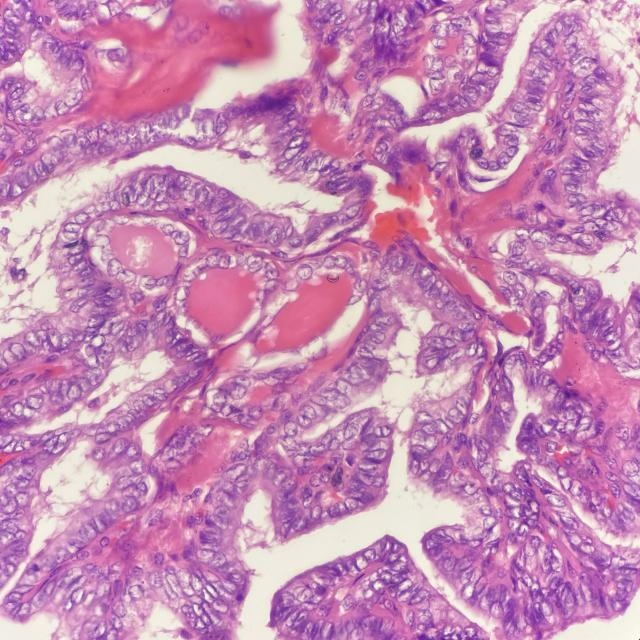TC: (414, 350, 451, 378), (340, 414, 368, 444), (290, 256, 317, 285), (276, 417, 306, 443), (225, 379, 253, 404), (460, 373, 488, 397), (280, 141, 308, 165), (356, 455, 385, 477), (358, 330, 393, 348), (476, 457, 500, 482), (371, 418, 399, 439), (417, 354, 445, 374), (499, 268, 527, 288), (371, 312, 402, 330), (422, 430, 443, 456), (506, 237, 528, 261), (334, 373, 355, 397), (136, 272, 157, 296), (306, 392, 332, 409), (447, 405, 468, 426), (433, 319, 455, 339), (284, 233, 308, 251), (464, 477, 484, 498), (412, 408, 436, 424), (541, 136, 557, 160), (499, 135, 524, 150), (503, 354, 522, 373), (471, 152, 489, 172), (499, 148, 513, 173), (528, 225, 544, 242)
